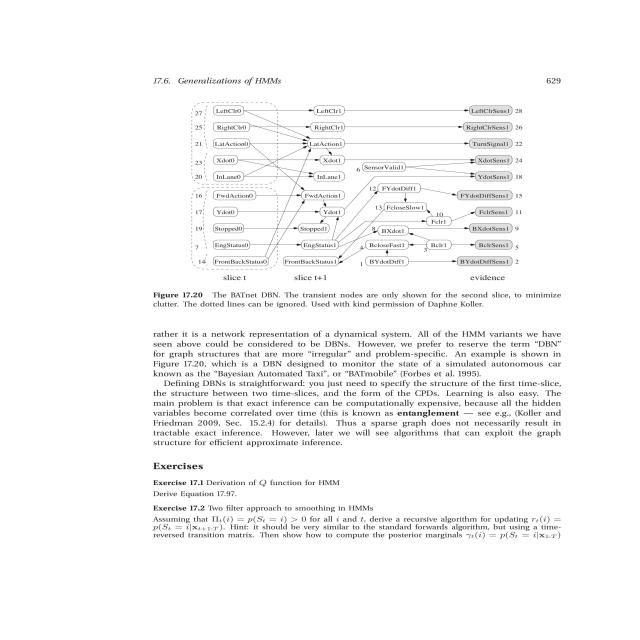diagram: (134, 98, 586, 330)
